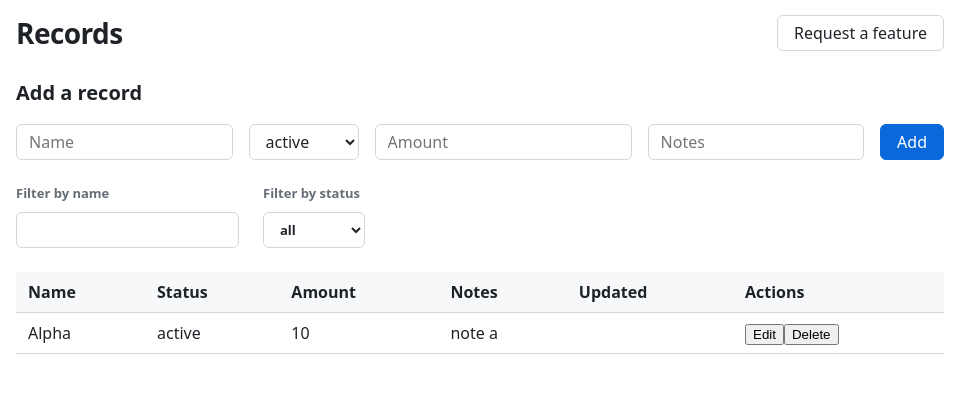
Test: App edit (optimistic-with-rollback) › restores the prior value and surfaces an error when the PATCH fails
Expected: the text "Alpha" is shown, [16,312,145,353]
Click the button "Edit".
click(764, 334)  # box [745,324,784,344]
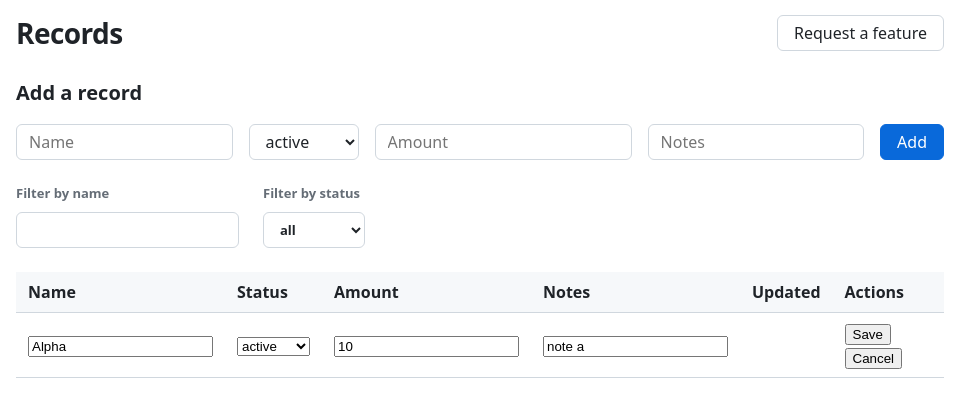
Replace the text in the field named "Name" with "Renamed" at (120, 346), box [28,336,213,356]
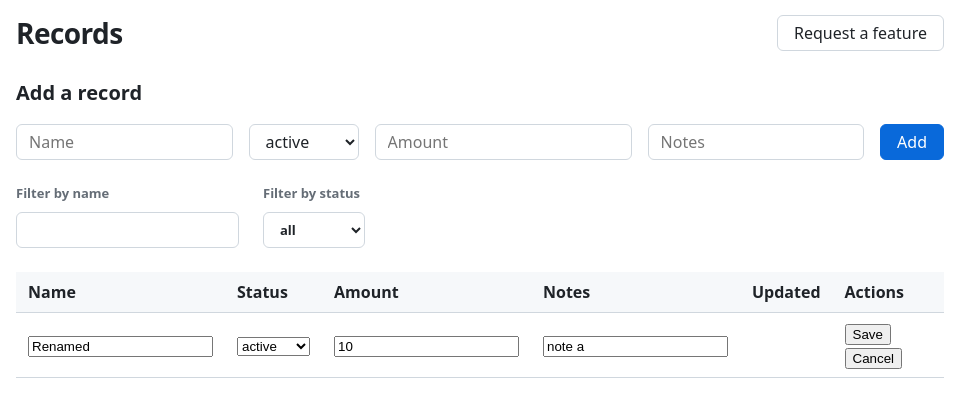
Click the button "Save".
click(868, 334)  # box [844,324,891,344]
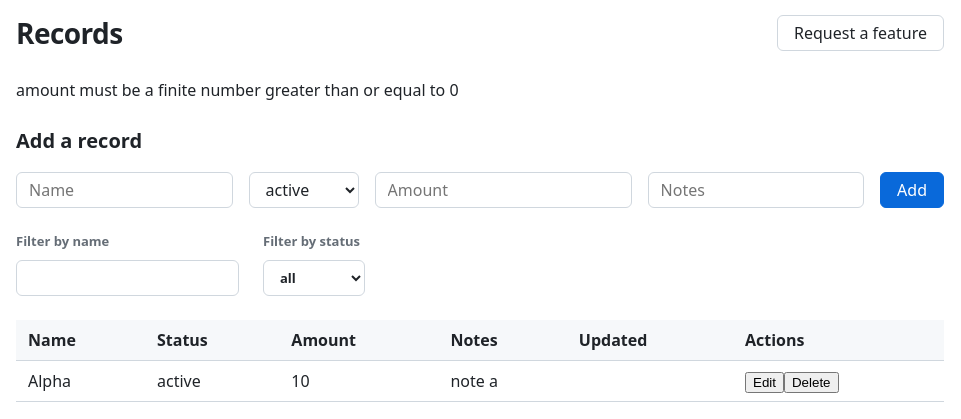
Expected: the text "Renamed" is not shown
Now the text "Alpha" is shown, box [16,360,145,401]
Now the message reads "amount must be a finite number greater than or equal to 0", box [16,79,458,101]
